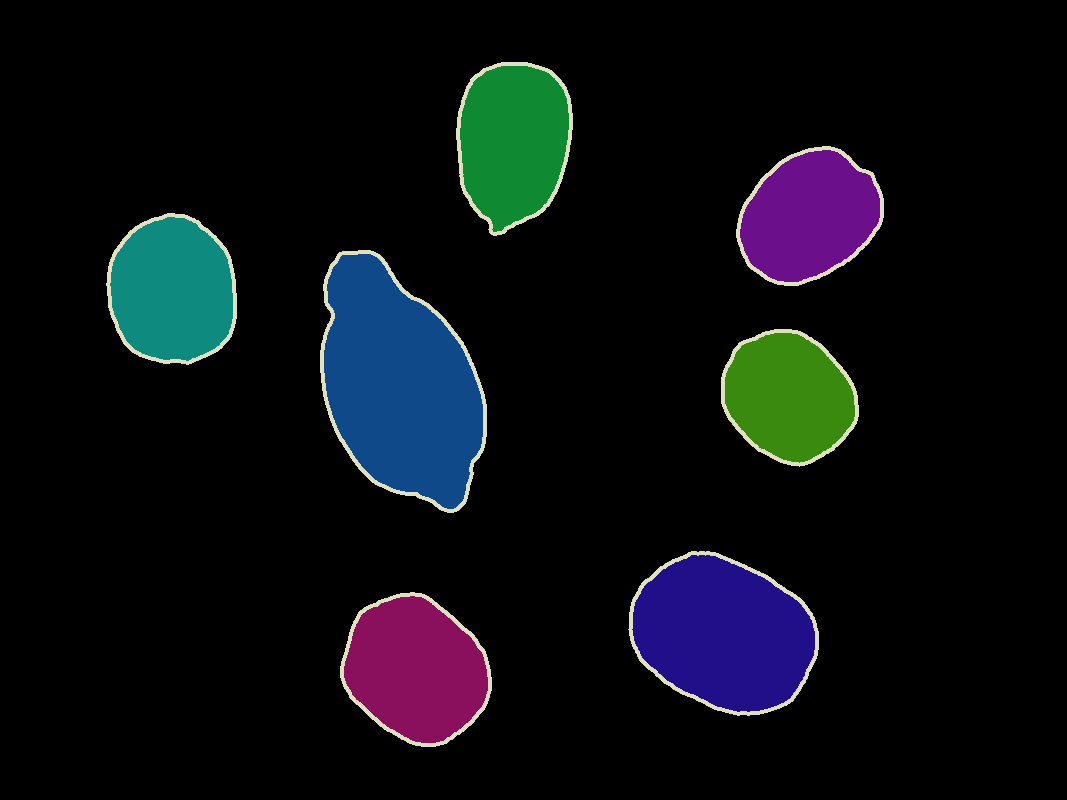kiwi: (632, 555, 814, 711), (344, 596, 487, 742), (740, 150, 879, 281), (460, 66, 568, 231), (110, 217, 232, 360), (725, 333, 854, 462)
lemon: (324, 254, 482, 508)
